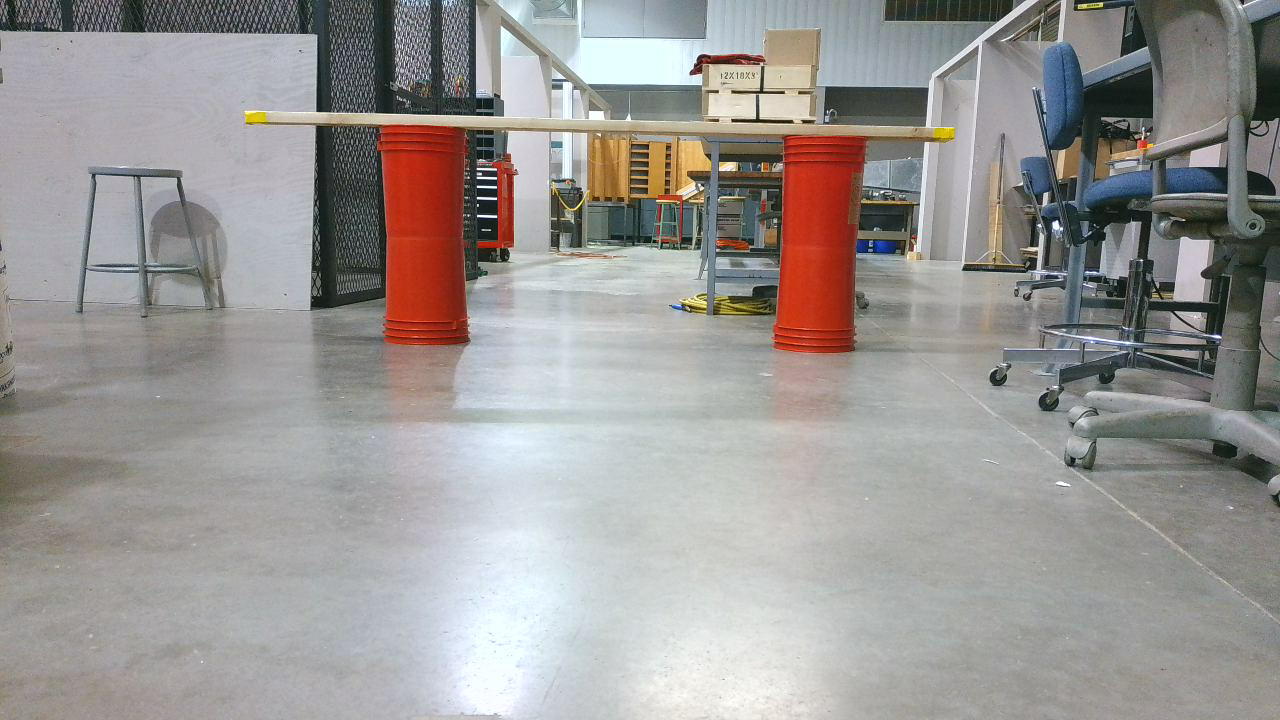red_bucket_arch: (246, 112, 968, 360)
